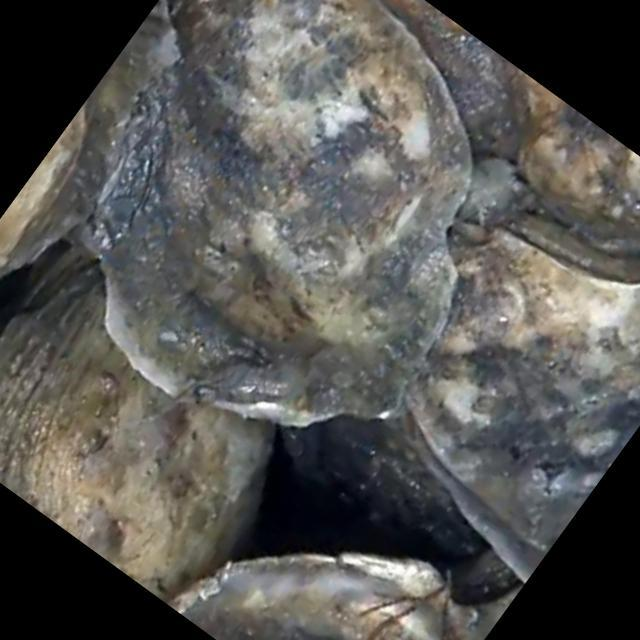Oyster- Indeterminate: (97, 0, 474, 425), (0, 244, 275, 596), (392, 213, 640, 581), (0, 0, 176, 279), (282, 413, 519, 602), (173, 547, 522, 640), (507, 60, 640, 251), (381, 0, 516, 159)
